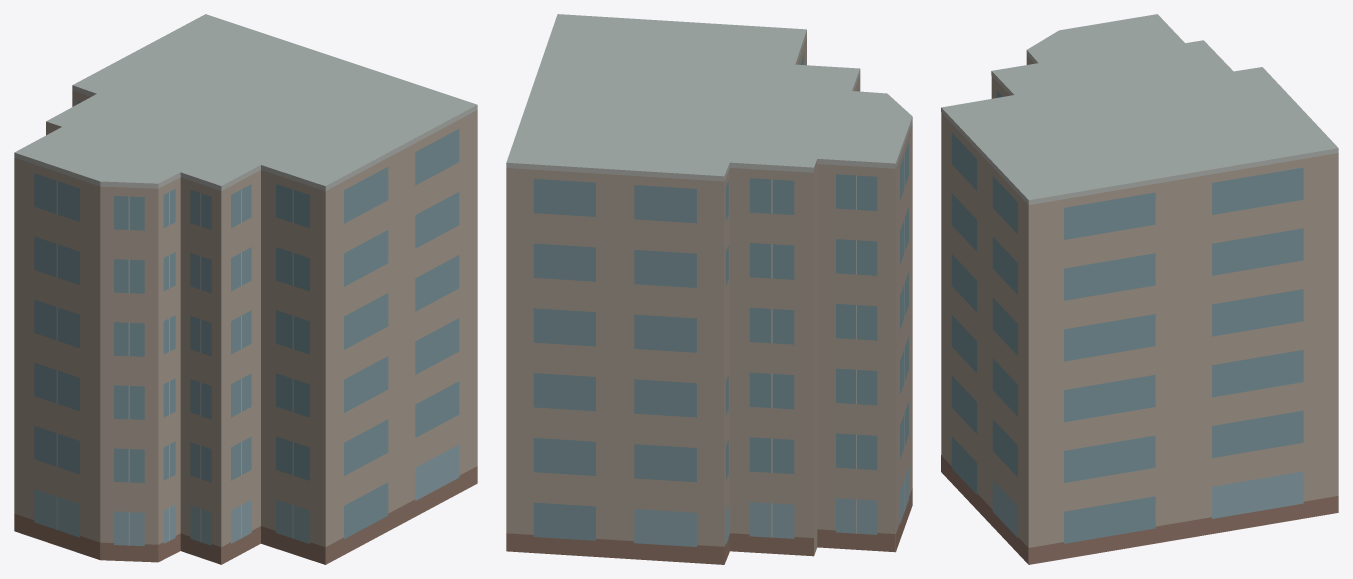
File: survey-upis-32978846.glb
3 renders of one model, left to right at view 1: azimuth 30°, elevation 25°; view 2: azimuth 150°, elevation 25°; view 3: azimuth 270°, elevation 25°, orthographic. The views are drawn at different scales.
Parts seen in each view (by area): view 1: survey-upis-32978846.tmp; view 2: survey-upis-32978846.tmp; view 3: survey-upis-32978846.tmp.
Boxes of the visible parts, box(x1,y1,x2,y2) form: survey-upis-32978846.tmp: box(14, 14, 477, 564); survey-upis-32978846.tmp: box(506, 14, 912, 564); survey-upis-32978846.tmp: box(941, 14, 1338, 564).
Bounding box in the file's own units: 20.06 × 18.3 × 18.09.
